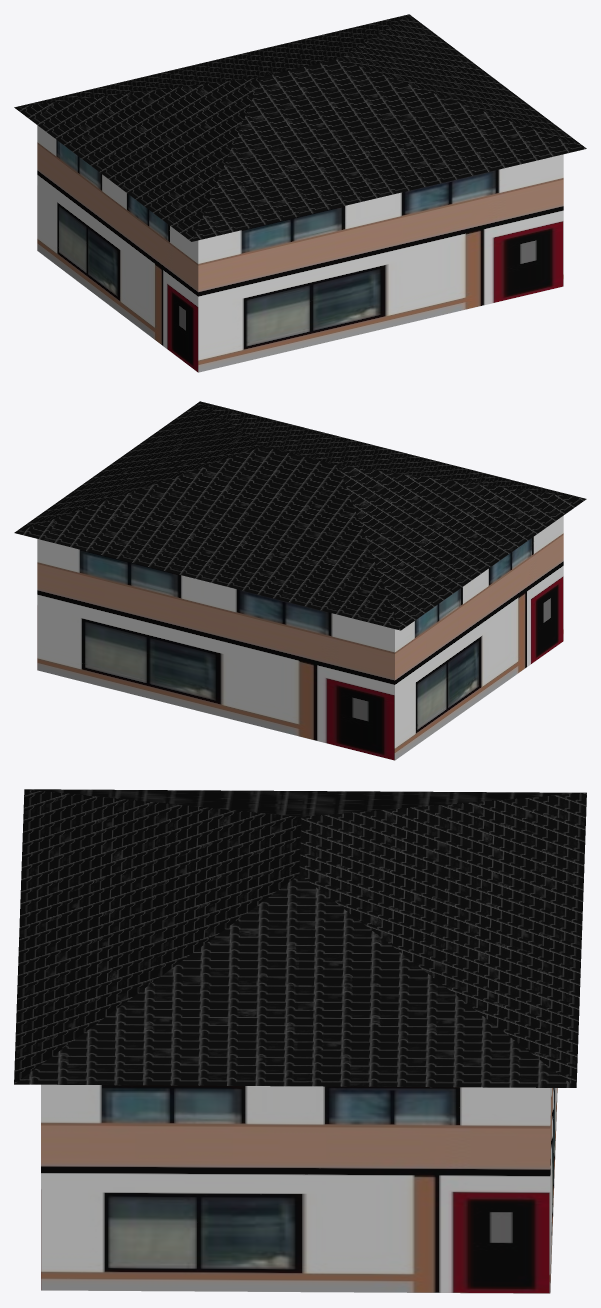
3 views of the same model, one above another, from view 1: azimuth 30°, elevation 25°; view 2: azimuth 150°, elevation 25°; view 3: azimuth 270°, elevation 25° (orthographic). The views are drawn at different scales.
Parts seen in each view (by area): view 1: CityEngineMaterial_14_m, CityEngineMaterial_5_m; view 2: CityEngineMaterial_14_m, CityEngineMaterial_5_m; view 3: CityEngineMaterial_14_m, CityEngineMaterial_5_m.
Boxes of the visible parts, box(x1,y1,x2,y2) form: CityEngineMaterial_14_m: box(14, 14, 586, 241); CityEngineMaterial_5_m: box(37, 125, 563, 372); CityEngineMaterial_14_m: box(14, 401, 586, 630); CityEngineMaterial_5_m: box(37, 516, 563, 760); CityEngineMaterial_14_m: box(14, 789, 586, 1087); CityEngineMaterial_5_m: box(41, 1084, 557, 1293).
Bounding box in the file's own units: 25.01 × 12.09 × 20.27.
